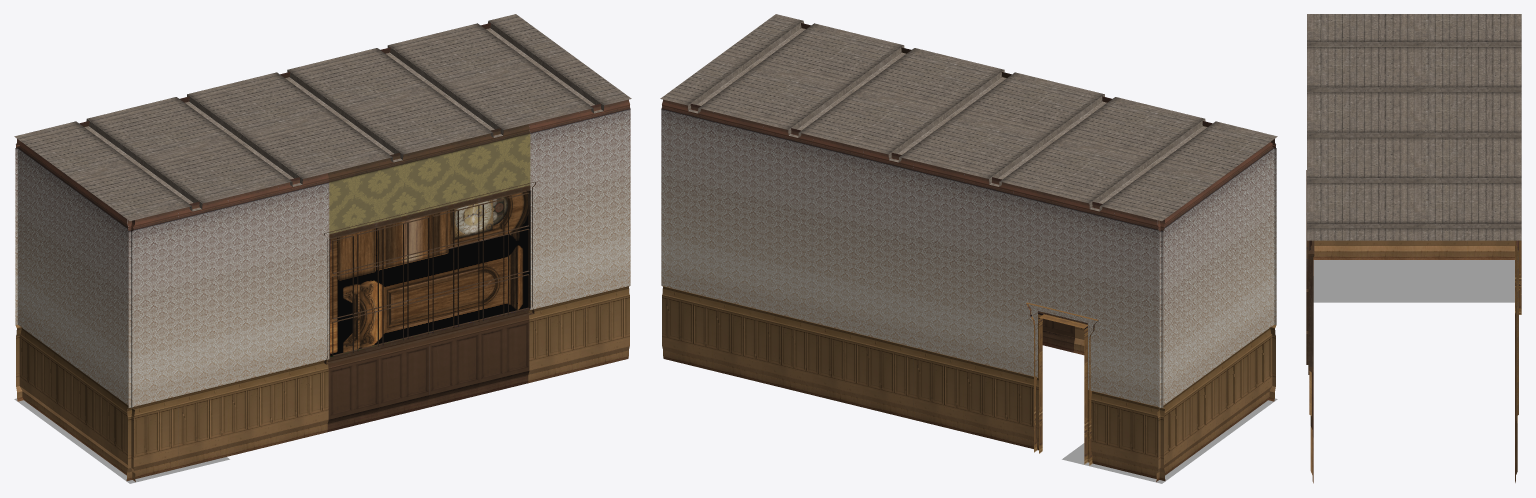
The model's file is room_office.fbx.
3 views of the same model, side by side, from view 1: azimuth 30°, elevation 25°; view 2: azimuth 150°, elevation 25°; view 3: azimuth 270°, elevation 25° (orthographic). The views are drawn at different scales.
Parts seen in each view (by area): view 1: room; view 2: room; view 3: room.
Boxes of the visible parts, box(x1,y1,x2,y2) form: room: box(14, 14, 631, 483); room: box(660, 14, 1277, 483); room: box(1306, 14, 1521, 483).
Bounding box in the file's own units: 1000 × 500 × 401.
